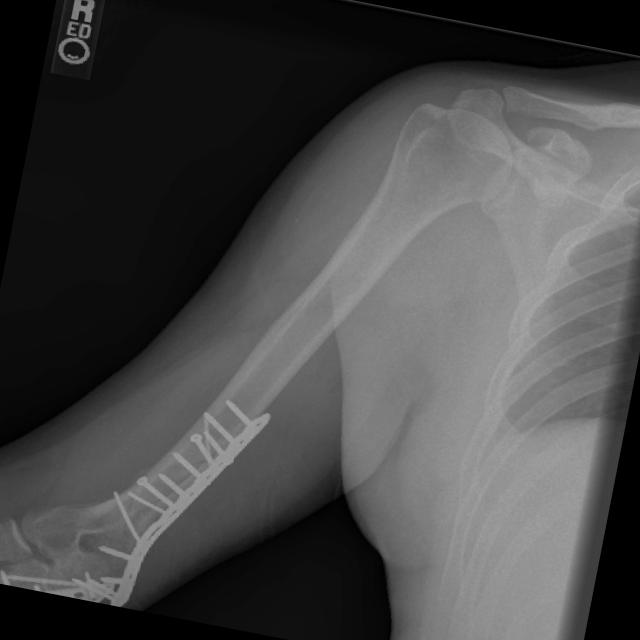humerus fracture: (0, 141, 479, 635), (109, 444, 221, 548)
